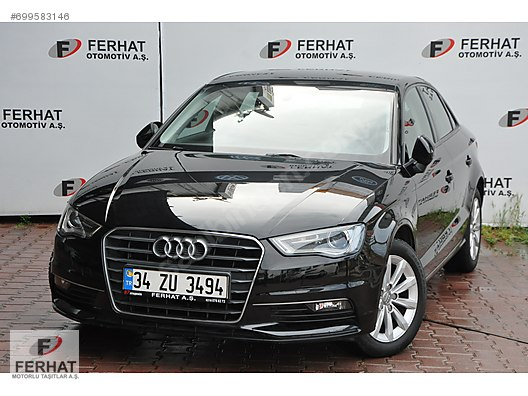audi: (143, 234, 212, 262)
